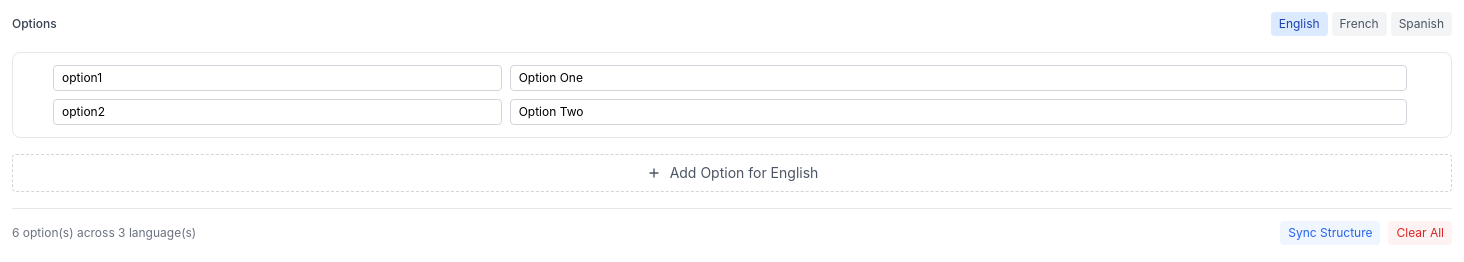
Test case: OptionsEditor › switches languages when tab is clicked
This screenshot has width=1464, height=262.
# Click on French tab
What coordinates should you click on to do the following:
click the button "French"
I would click on:
 (1359, 24)
Its box is x1=1332 y1=12 x2=1387 y2=36.
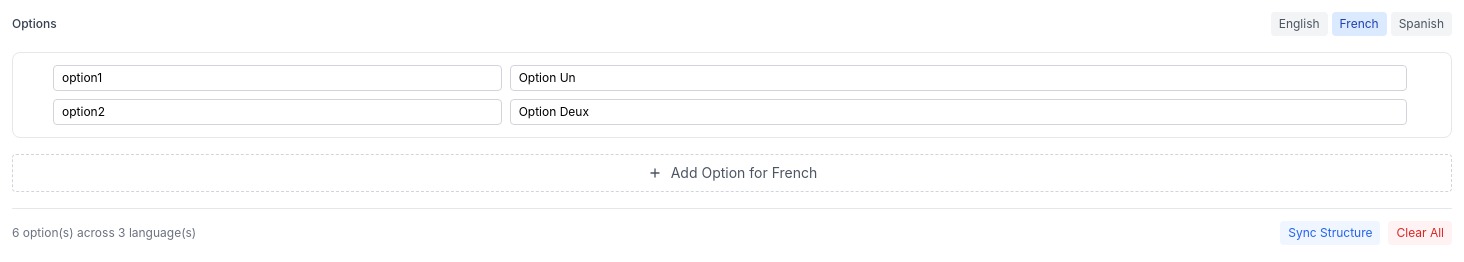
Result: the 2nd field holds "Option Un" at x1=510 y1=65 x2=1407 y2=91
Result: the 4th field holds "Option Deux" at x1=510 y1=99 x2=1407 y2=125
